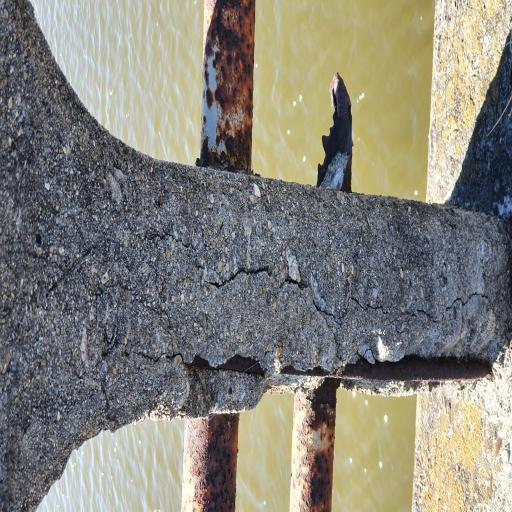exposed_rebar: (340, 357, 491, 382), (192, 354, 264, 377), (281, 364, 325, 377)
